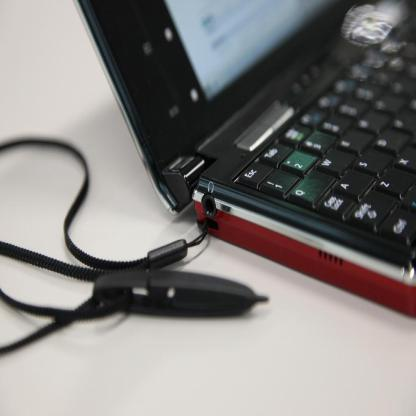board: (84, 0, 416, 337)
